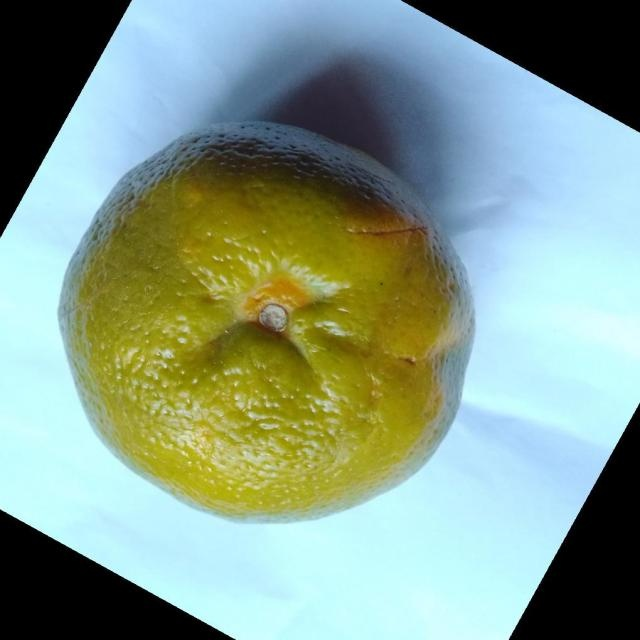agrume: (56, 119, 476, 525)
